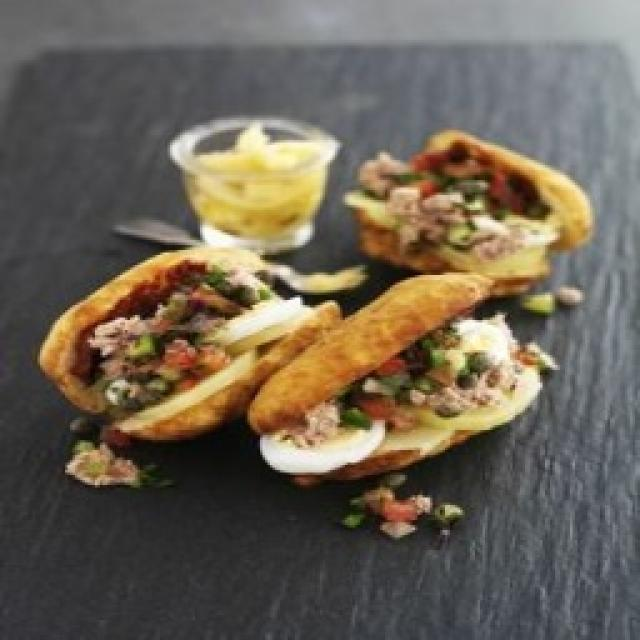Frecasse: (8, 45, 595, 542)
